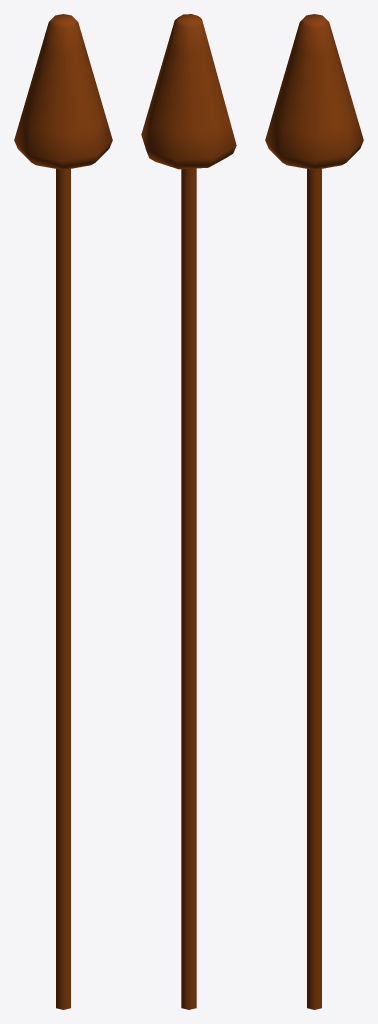
File: moveGizmoY.obj
3 views of the same model, side by side, from view 1: azimuth 90°, elevation 25°; view 2: azimuth 210°, elevation 25°; view 3: azimuth 270°, elevation 25° (orthographic).
Parts seen in each view (by area): view 1: Object002; view 2: Object002; view 3: Object002.
Boxes of the visible parts, left/top/right/bottom form: Object002: left=14, top=14, right=112, bottom=1009; Object002: left=141, top=14, right=236, bottom=1009; Object002: left=265, top=14, right=363, bottom=1009.
Size of the model in its own units: 5.65 by 62.38 by 5.65.
